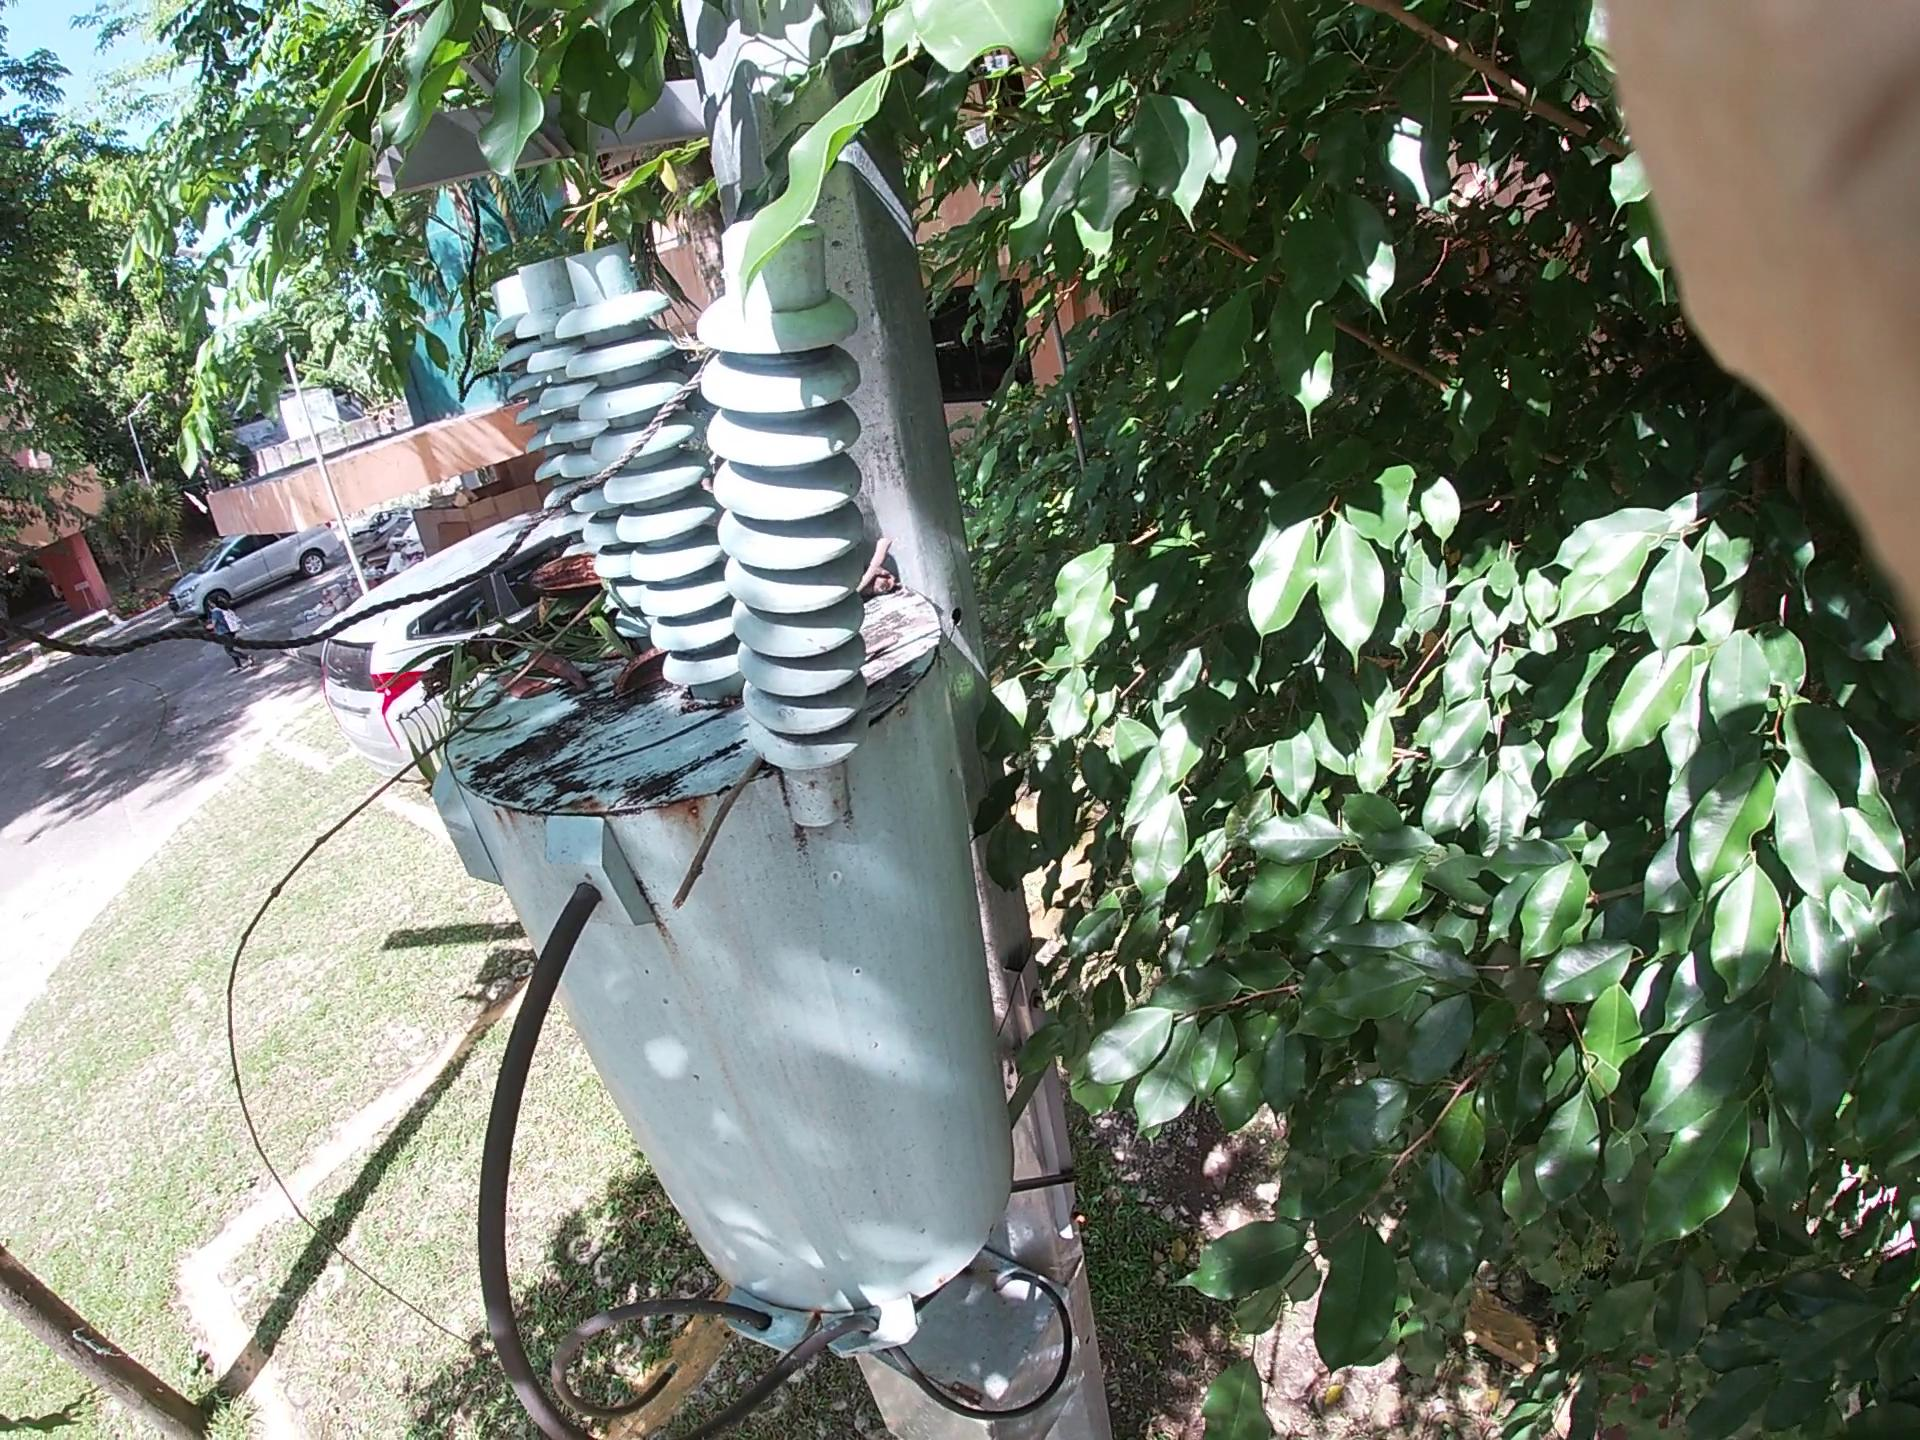branch with leaves: (392, 546, 602, 824)
leaf: (494, 604, 630, 722)
mahogany fruit: (497, 510, 624, 617), (609, 631, 711, 717)
tree branch: (174, 584, 612, 1128), (623, 744, 736, 906), (816, 483, 903, 659)
